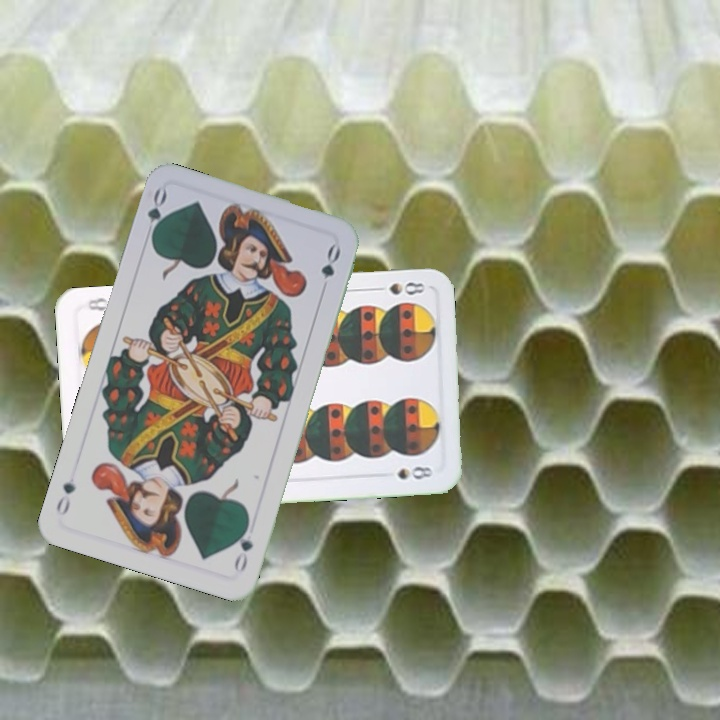GO: (143, 185, 170, 245), (230, 517, 256, 575)
S8: (369, 276, 427, 298)
